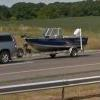Boat: (19, 22, 99, 65)
